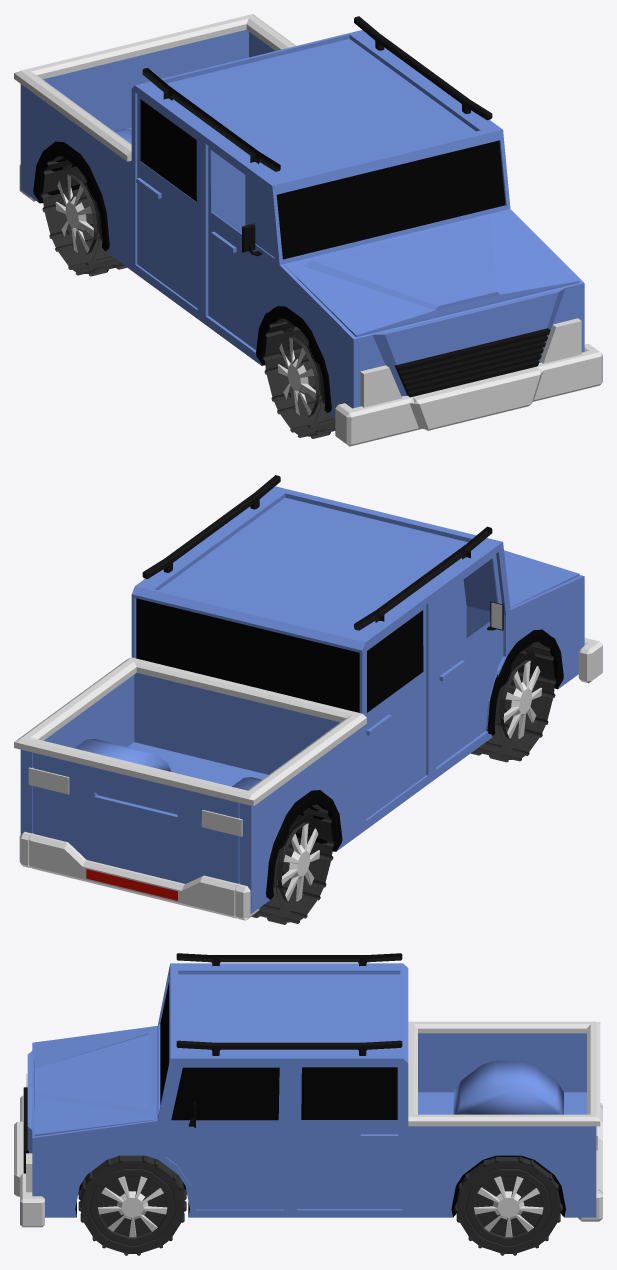
Rendered from Car_01.fbx.
3 views of the same model, one above another, from view 1: azimuth 30°, elevation 25°; view 2: azimuth 150°, elevation 25°; view 3: azimuth 270°, elevation 25° (orthographic). The views are drawn at different scales.
Parts seen in each view (by area): view 1: Car_01; view 2: Car_01; view 3: Car_01.
Boxes of the visible parts, x1,y1,x2,y2 form: Car_01: [14, 14, 602, 446]; Car_01: [14, 475, 602, 924]; Car_01: [14, 953, 602, 1255].
Bounding box in the file's own units: 410 × 371 × 940.
